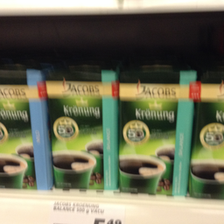coffee: (117, 64, 197, 197), (46, 66, 118, 191)
